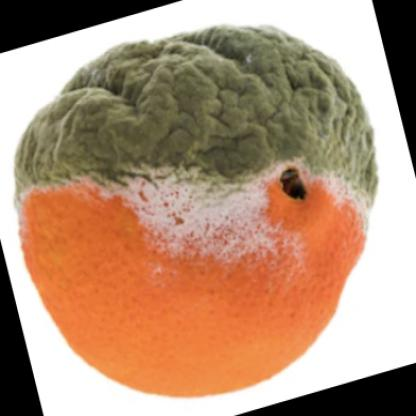rotten_orange: (14, 15, 392, 412)
